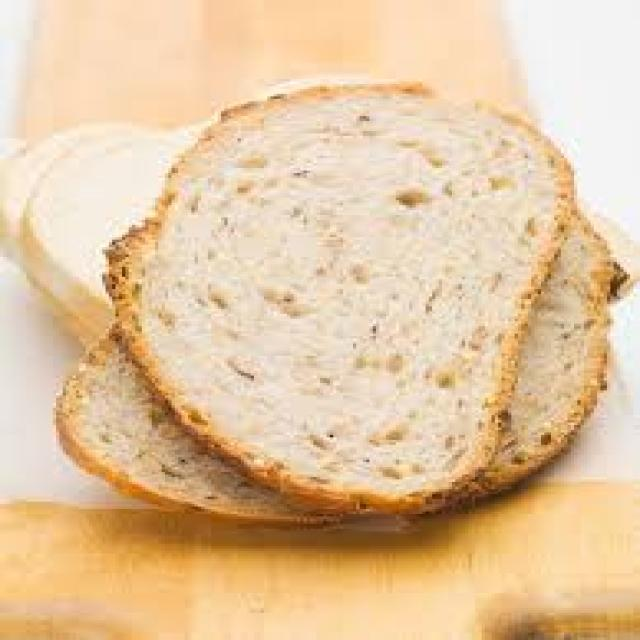Bread: (115, 93, 559, 496), (57, 330, 340, 523), (464, 216, 617, 497)
